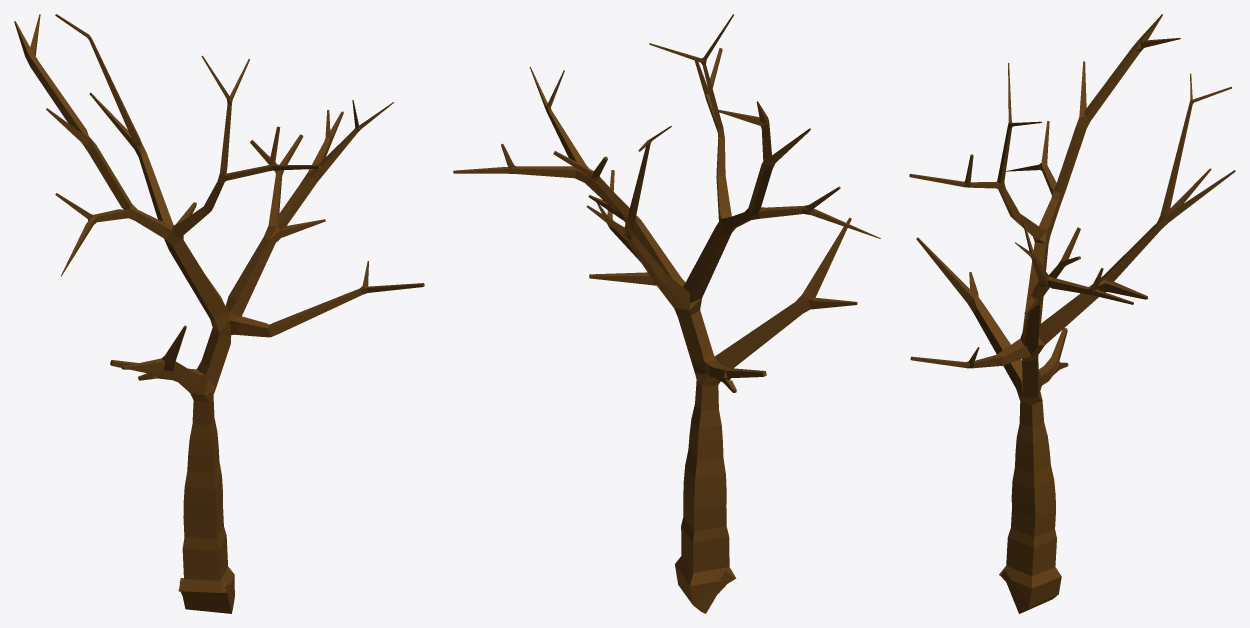
The model's file is dead tree.fbx.
The picture shows the model from 3 angles, left to right: view 1: azimuth 30°, elevation 25°; view 2: azimuth 150°, elevation 25°; view 3: azimuth 270°, elevation 25°; orthographic projection. The views are drawn at different scales.
Parts seen in each view (by area): view 1: Cube; view 2: Cube; view 3: Cube.
Part boxes in pixels (box(x1,y1,x2,y2)): Cube: box(14, 14, 424, 613); Cube: box(453, 14, 880, 613); Cube: box(909, 14, 1235, 613).
Bounding box in the file's own units: 877 × 1367 × 755.
